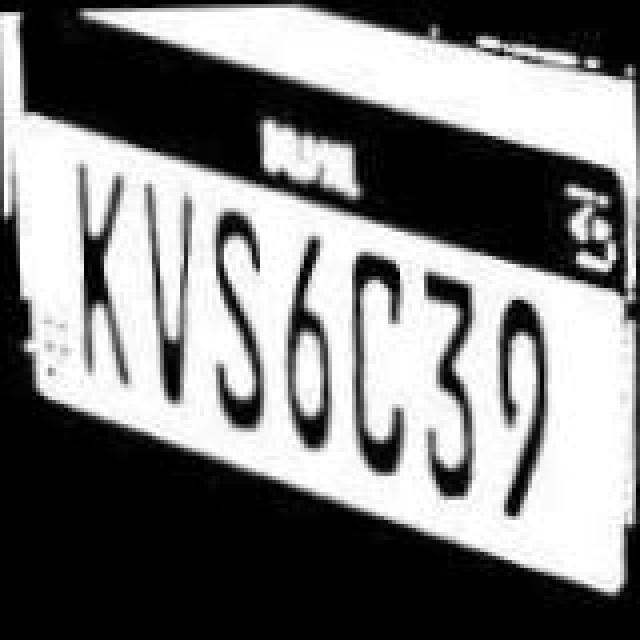3: (412, 250, 488, 522)
6: (270, 224, 346, 452)
9: (490, 286, 566, 538)
C: (342, 238, 422, 482)
K: (62, 158, 134, 386)
S: (192, 206, 272, 446)
V: (128, 178, 204, 410)
